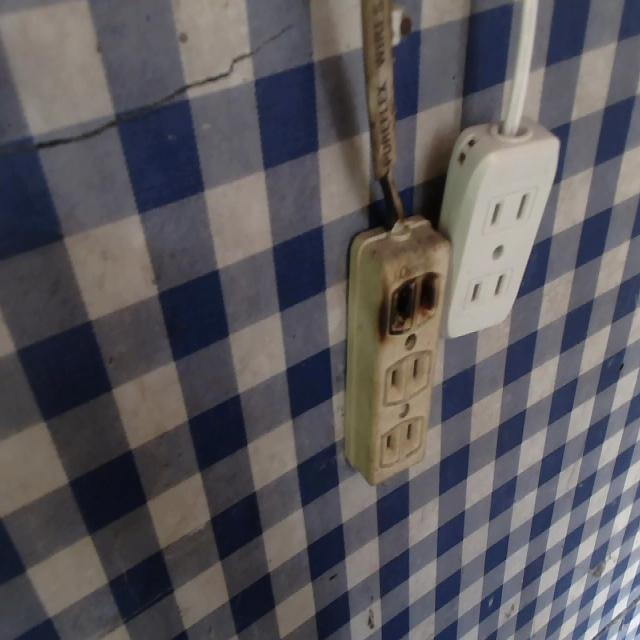-: (363, 265, 445, 336)
